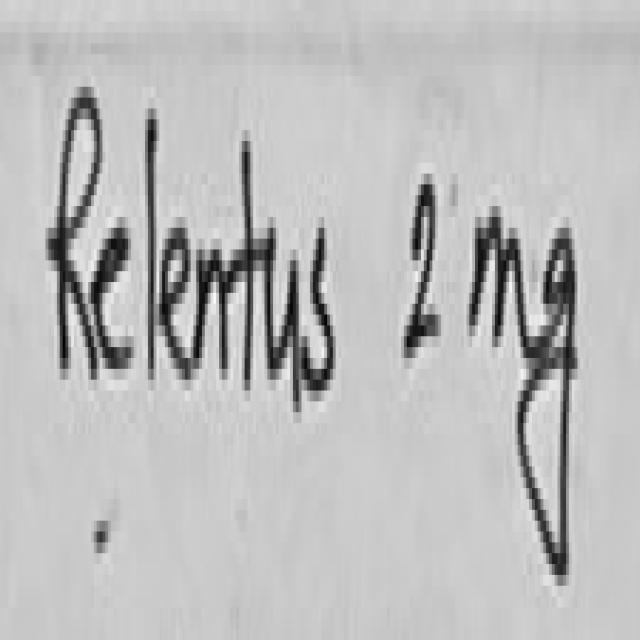2: (407, 184, 441, 358)
R: (48, 87, 102, 380)
e: (91, 228, 134, 369), (162, 228, 191, 380)
g: (517, 228, 577, 586)
l: (148, 108, 156, 374)
m: (472, 217, 535, 358)
n: (193, 249, 228, 369)
s: (302, 228, 336, 391)
t: (228, 141, 267, 385)
u: (265, 228, 302, 412)
